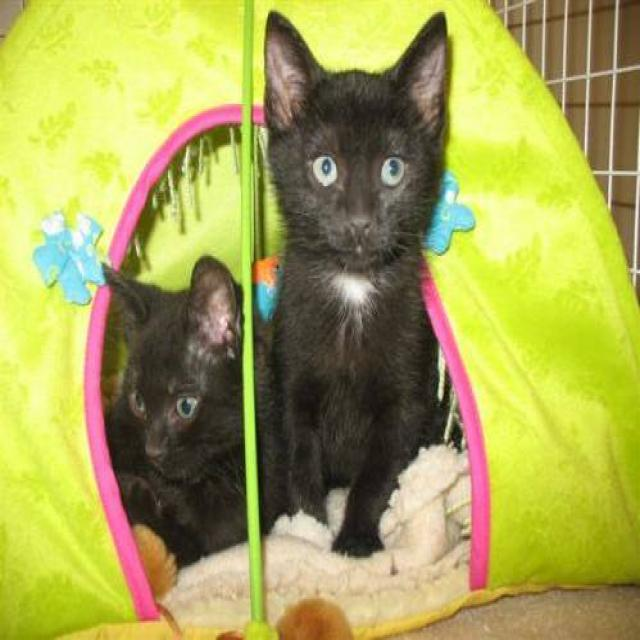cat: (259, 9, 454, 558), (99, 253, 288, 570)
